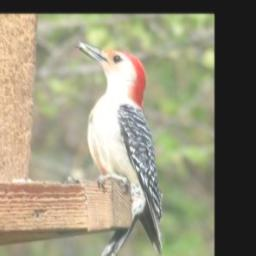Woodpecker: (72, 39, 162, 256)
